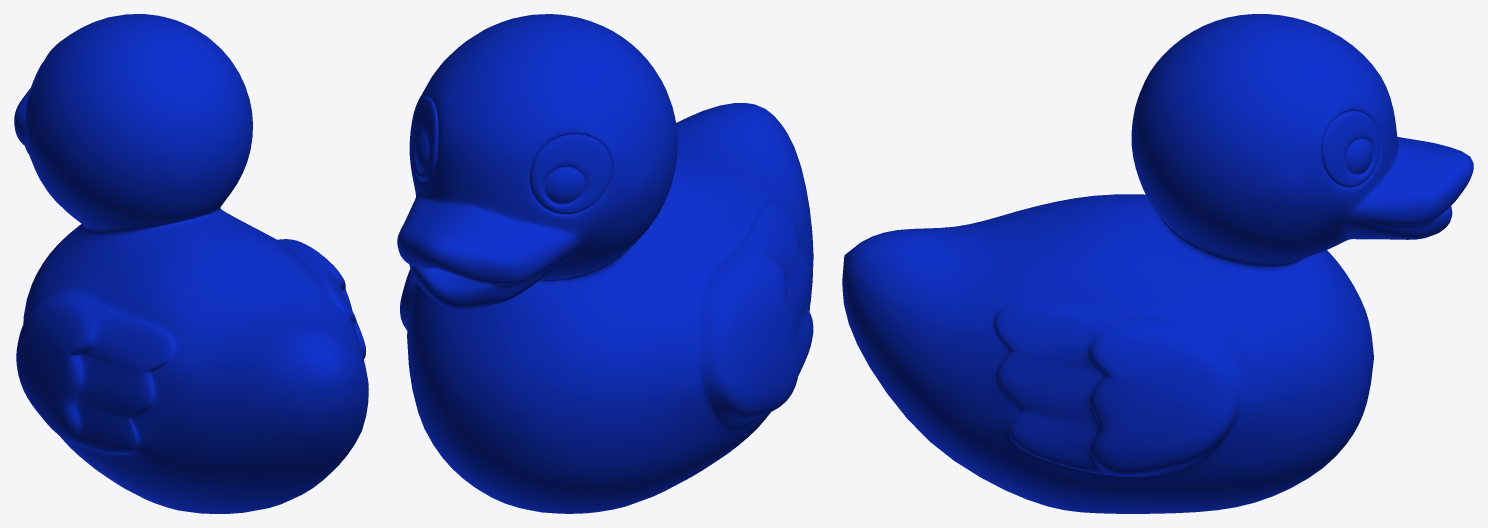
Rendered from duck.obj.
3 renders of one model, left to right at view 1: azimuth 30°, elevation 25°; view 2: azimuth 150°, elevation 25°; view 3: azimuth 270°, elevation 25°, orthographic. The views are drawn at different scales.
Visible parts, largest first — view 1: duck; view 2: duck; view 3: duck.
Part boxes in pixels (x1,y1,x2,y2): duck: (14,14,368,513); duck: (397,14,813,513); duck: (842,14,1473,513).
Bounding box in the file's own units: 3.01 × 4.05 × 4.98.
